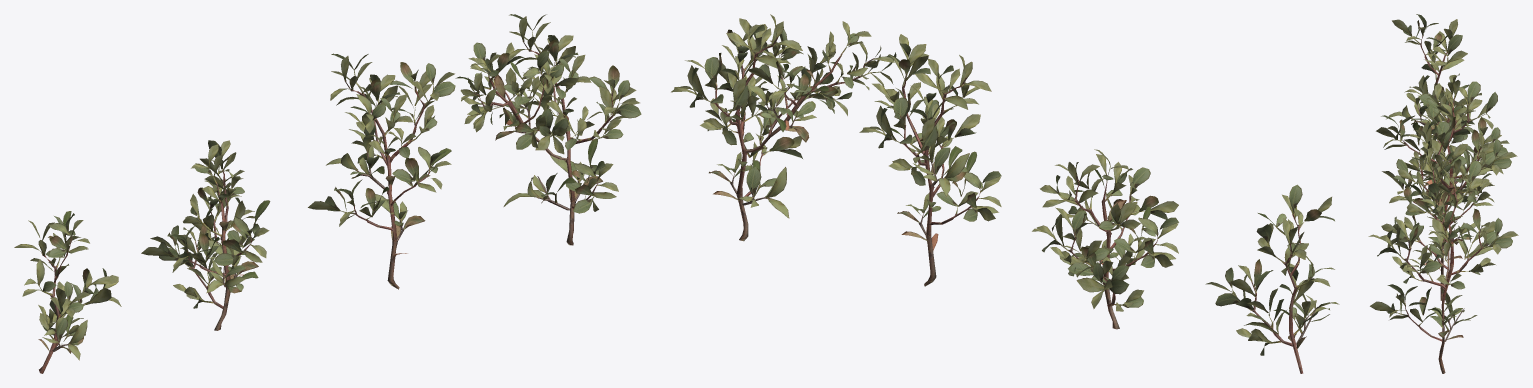
The model's file is shrub_04.gltf.
3 renders of one model, left to right at view 1: azimuth 30°, elevation 25°; view 2: azimuth 150°, elevation 25°; view 3: azimuth 270°, elevation 25°, orthographic. The views are drawn at different scales.
Parts seen in each view (by area): view 1: shrub_04; view 2: shrub_04; view 3: shrub_04.
Part boxes in pixels (box(x1,y1,x2,y2)): shrub_04: box(14, 14, 641, 373); shrub_04: box(671, 14, 1339, 373); shrub_04: box(1368, 14, 1518, 373).
Size of the model in its own units: 0.5837 by 0.2185 by 0.1461.
1 material, 1 textured.
